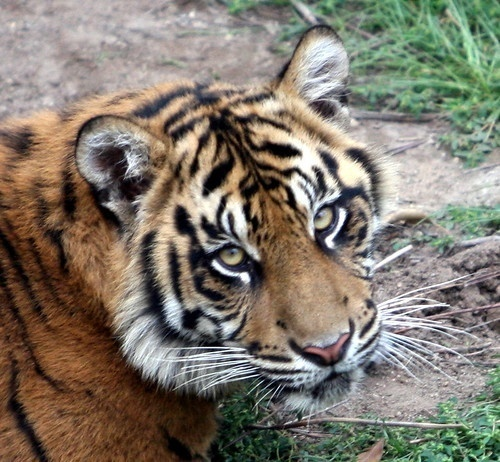tigre: (1, 27, 398, 462)
